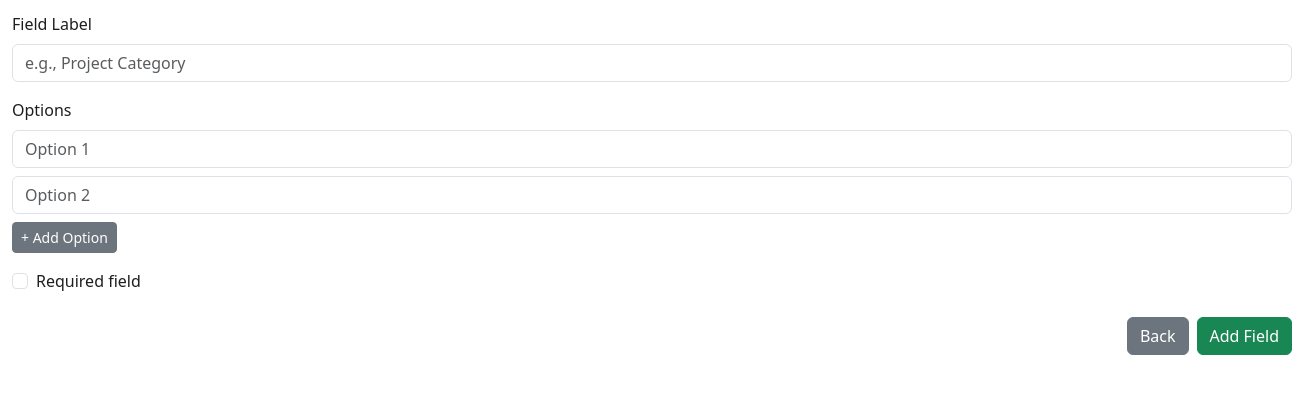
Test: RadioFieldConfigurator › validation error shown if user tries to submit when label has not been filled
Type "A" into the field with placeholder "Option 1". click: (652,149)
box: x1=12 y1=130 x2=1292 y2=168
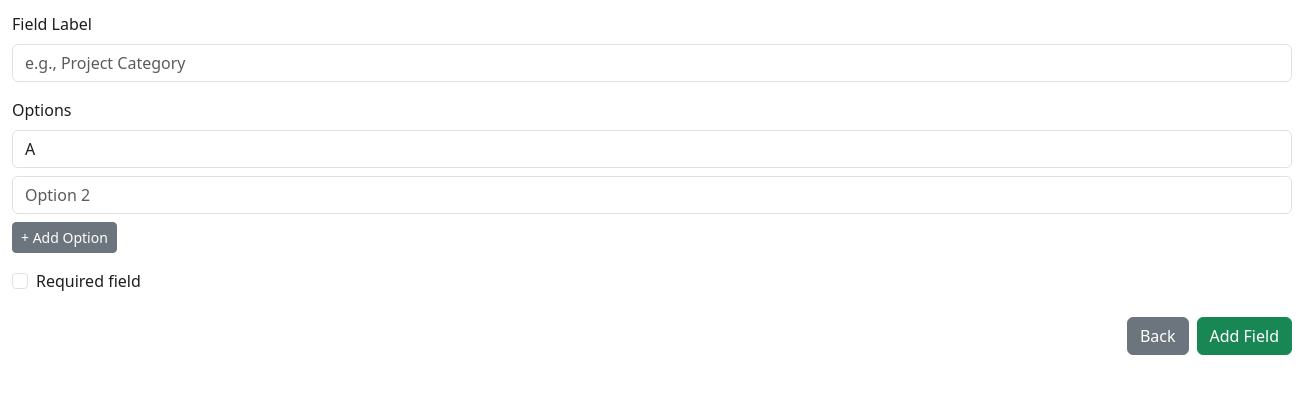
Type "B" into the field with placeholder "Option 2". click: (652,195)
box: x1=12 y1=176 x2=1292 y2=214
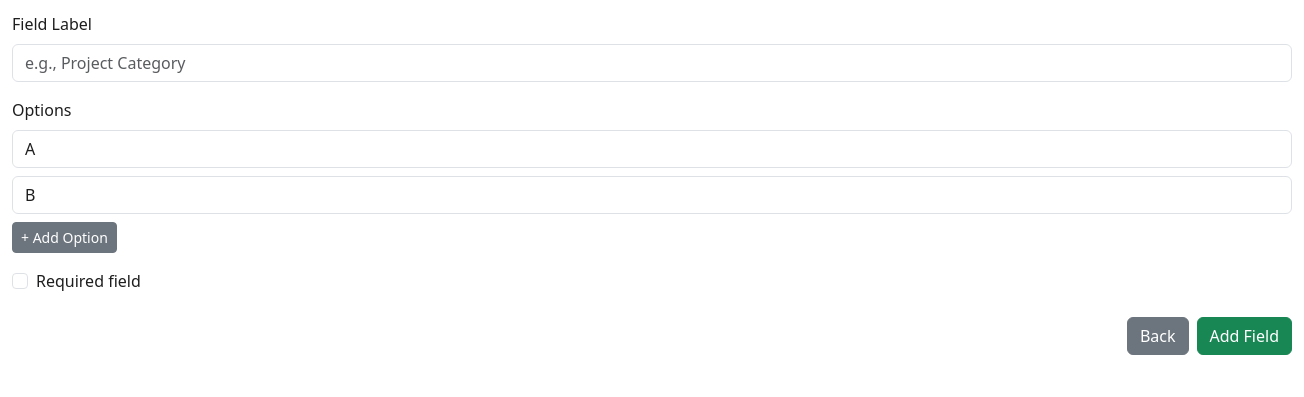
Click the button "Add Field". click: (1244,336)
box: x1=1196 y1=317 x2=1292 y2=355
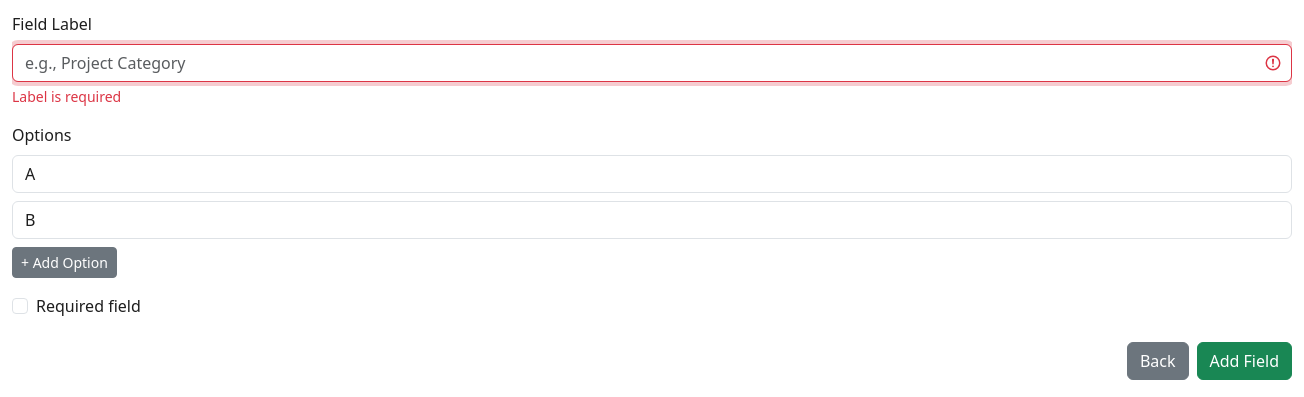
Check: the text "Label is required" is shown, box x1=12 y1=87 x2=121 y2=106
